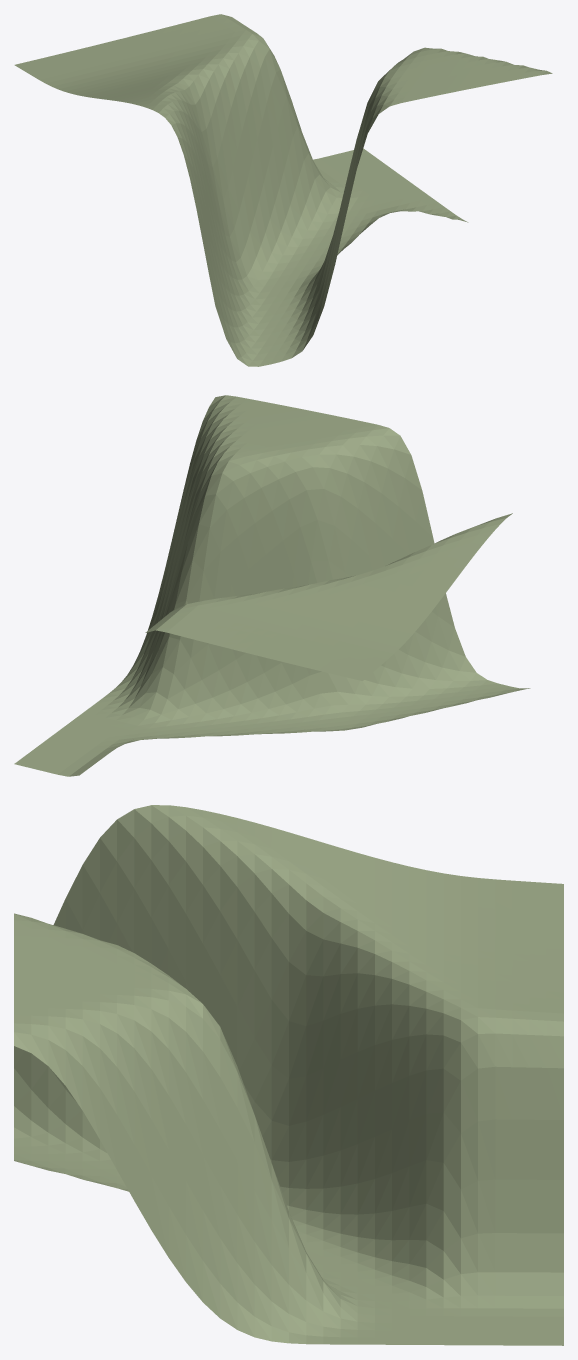
The model's file is canyon-1-4.glb.
3 views of the same model, one above another, from view 1: azimuth 30°, elevation 25°; view 2: azimuth 150°, elevation 25°; view 3: azimuth 270°, elevation 25° (orthographic). The views are drawn at different scales.
Visible parts, largest first — view 1: canyon-1-4; view 2: canyon-1-4; view 3: canyon-1-4.
Part boxes in pixels (x1,y1,x2,y2): canyon-1-4: [14, 14, 552, 366]; canyon-1-4: [14, 395, 530, 776]; canyon-1-4: [14, 805, 563, 1345].
Size of the model in its own units: 128 by 81.29 by 128.
